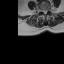CCS_stenosis: (44, 8, 45, 16)
LFS_normal: (47, 7, 49, 13)
LLS_normal: (45, 8, 47, 14)
RFS_normal: (40, 7, 42, 13)
RLS_normal: (42, 8, 44, 14)
